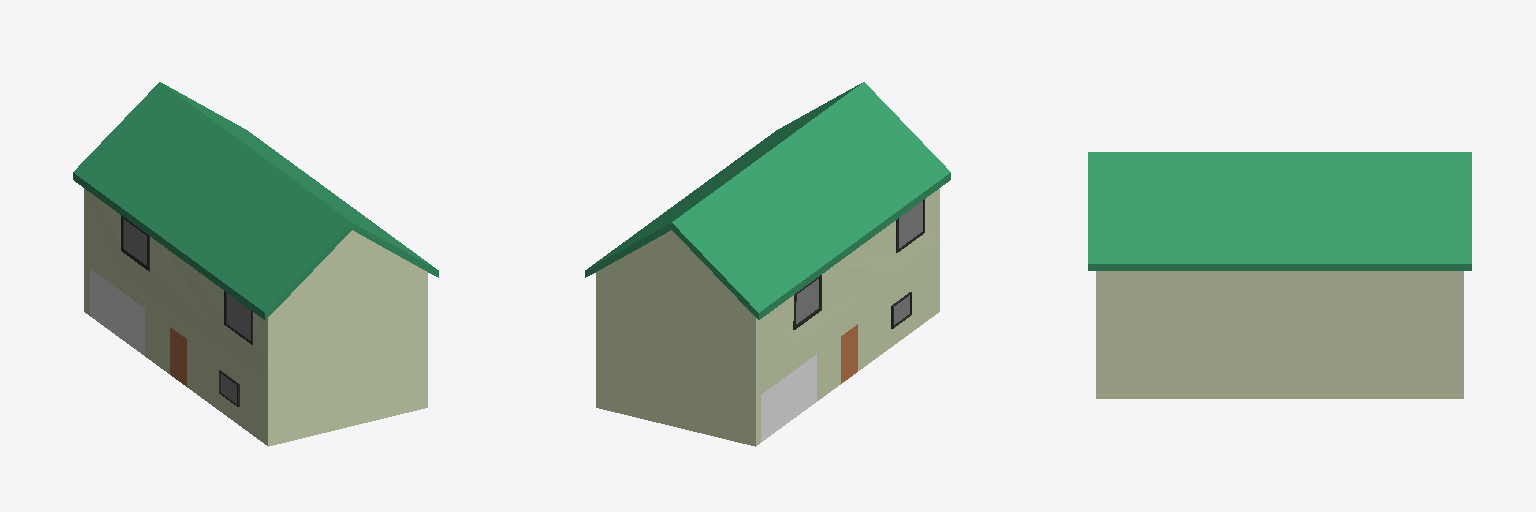
File: detached_house_1c.obj
The picture shows the model from 3 angles: view 1: azimuth 30°, elevation 25°; view 2: azimuth 150°, elevation 25°; view 3: azimuth 270°, elevation 25°; orthographic projection.
Parts seen in each view (by area): view 1: Box45; view 2: Box45; view 3: Box45.
Part boxes in pixels (bbox=[...]): Box45: bbox=[73, 82, 438, 446]; Box45: bbox=[585, 82, 950, 446]; Box45: bbox=[1088, 152, 1471, 398].
Bounding box in the file's own units: 12 × 13.71 × 23.